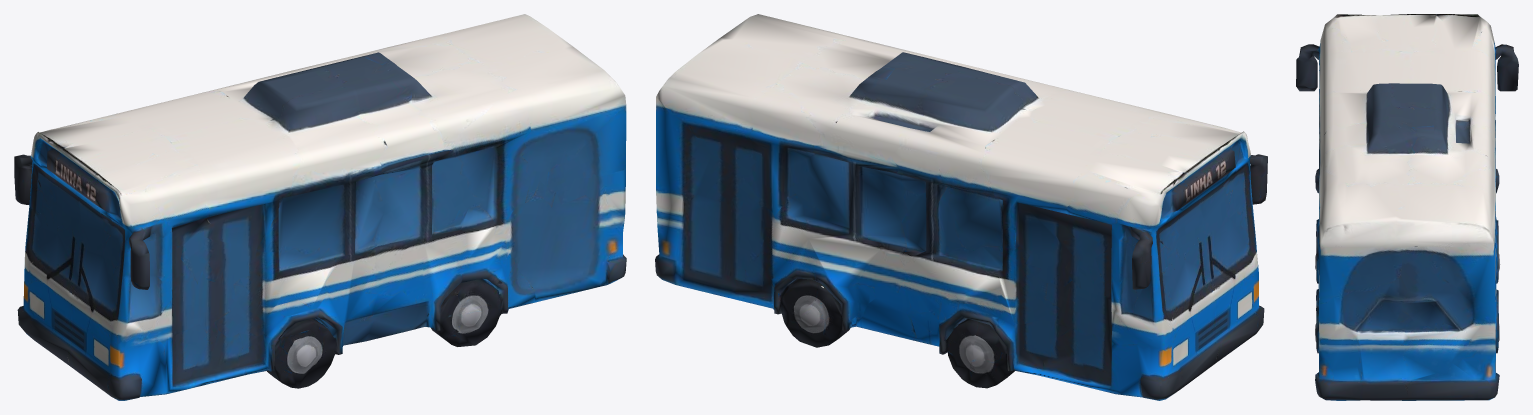
File: linha-azul.glb
The picture shows the model from 3 angles, left to right: view 1: azimuth 30°, elevation 25°; view 2: azimuth 150°, elevation 25°; view 3: azimuth 270°, elevation 25°; orthographic projection. The views are drawn at different scales.
Size of the model in its own units: 1.9 by 0.8893 by 0.8228.
1 material, 1 textured.
